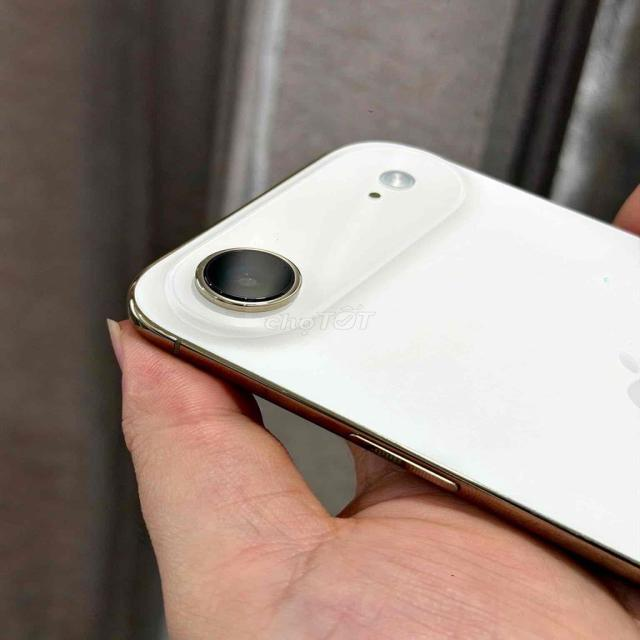gen_17: (131, 135, 640, 576)
